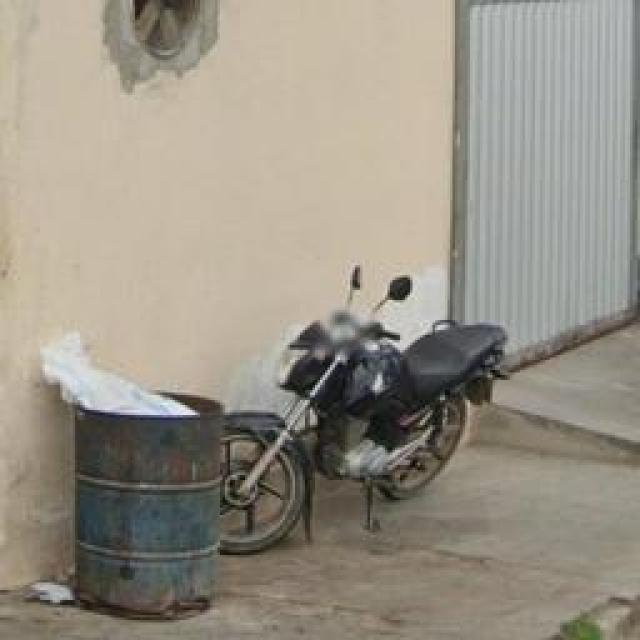car: (24, 580, 76, 604)
motorbike: (175, 263, 515, 562)
